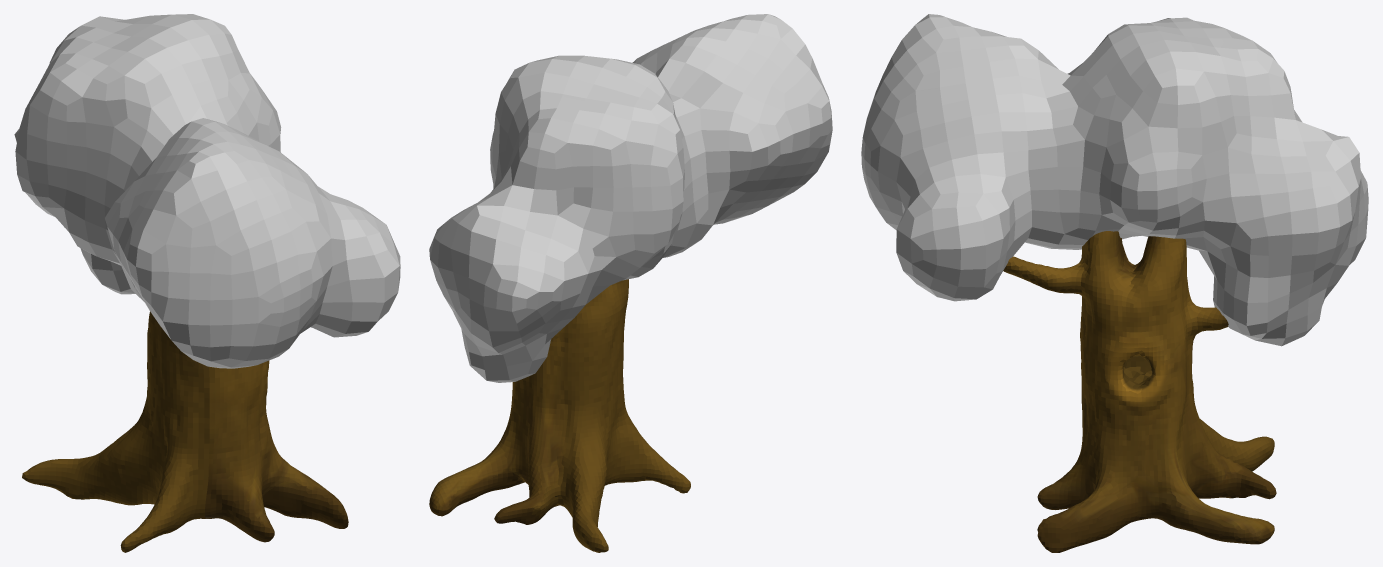
File: Tree.fbx
3 renders of one model, left to right at view 1: azimuth 30°, elevation 25°; view 2: azimuth 150°, elevation 25°; view 3: azimuth 270°, elevation 25°, orthographic. The views are drawn at different scales.
Visible parts, largest first — view 1: Sphere.000, Cube.001; view 2: Sphere.000, Cube.001; view 3: Sphere.000, Cube.001.
Boxes of the visible parts, x1,y1,x2,y2 form: Sphere.000: (14, 14, 400, 368); Cube.001: (22, 311, 348, 552); Sphere.000: (429, 14, 832, 382); Cube.001: (429, 279, 690, 552); Sphere.000: (861, 14, 1368, 346); Cube.001: (1003, 231, 1276, 552).
Bounding box in the file's own units: 145 × 246 × 246.
